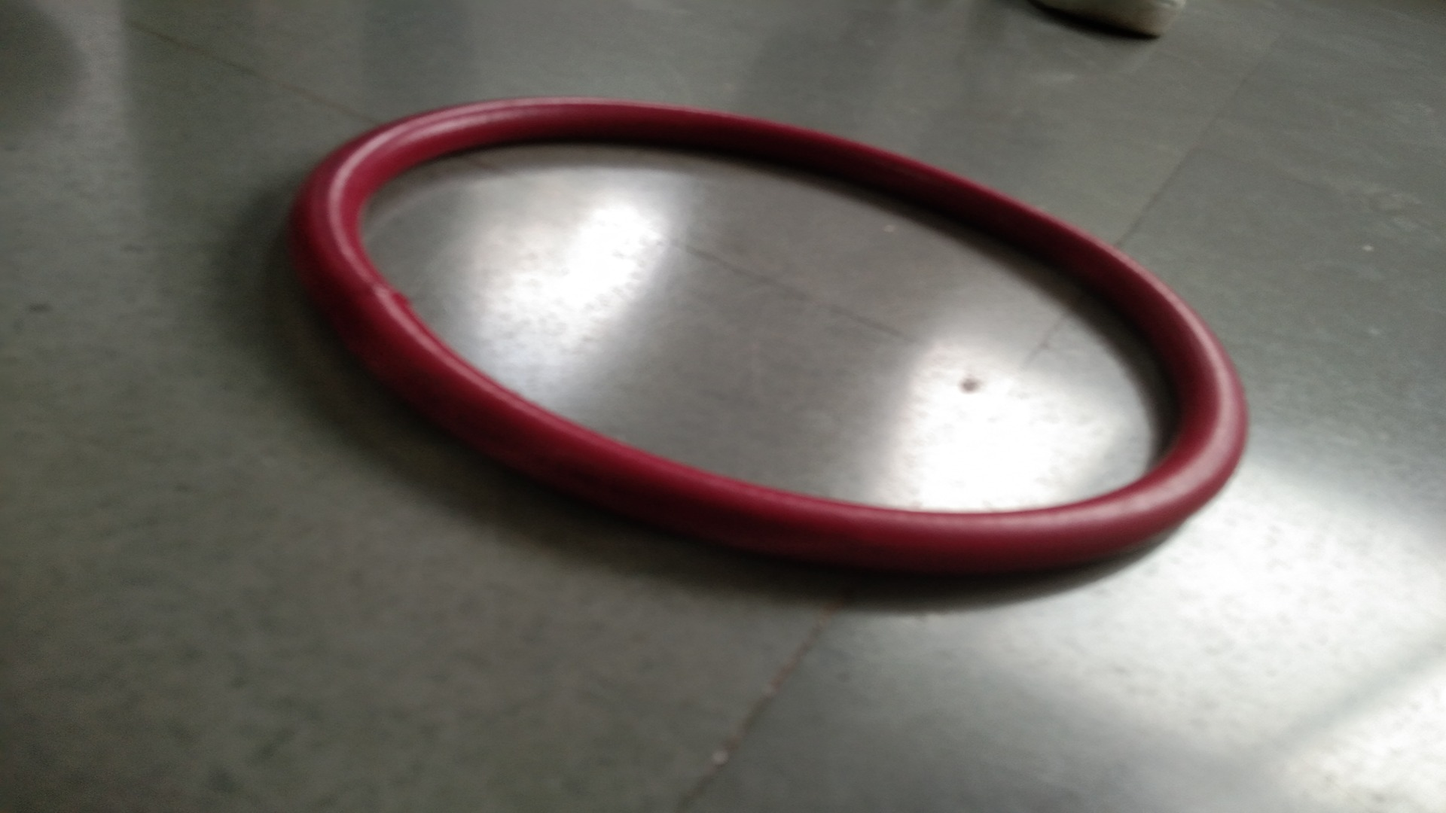Red ring: (291, 100, 1248, 586)
